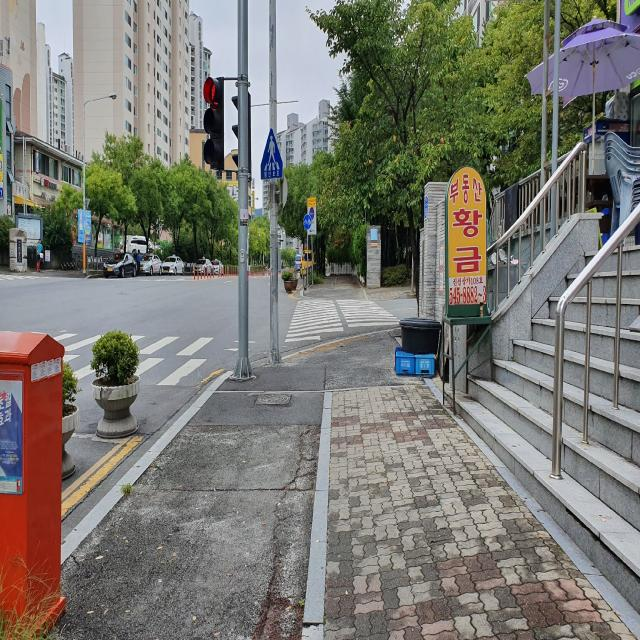횡단보도: (284, 300, 400, 342), (140, 336, 230, 378)
